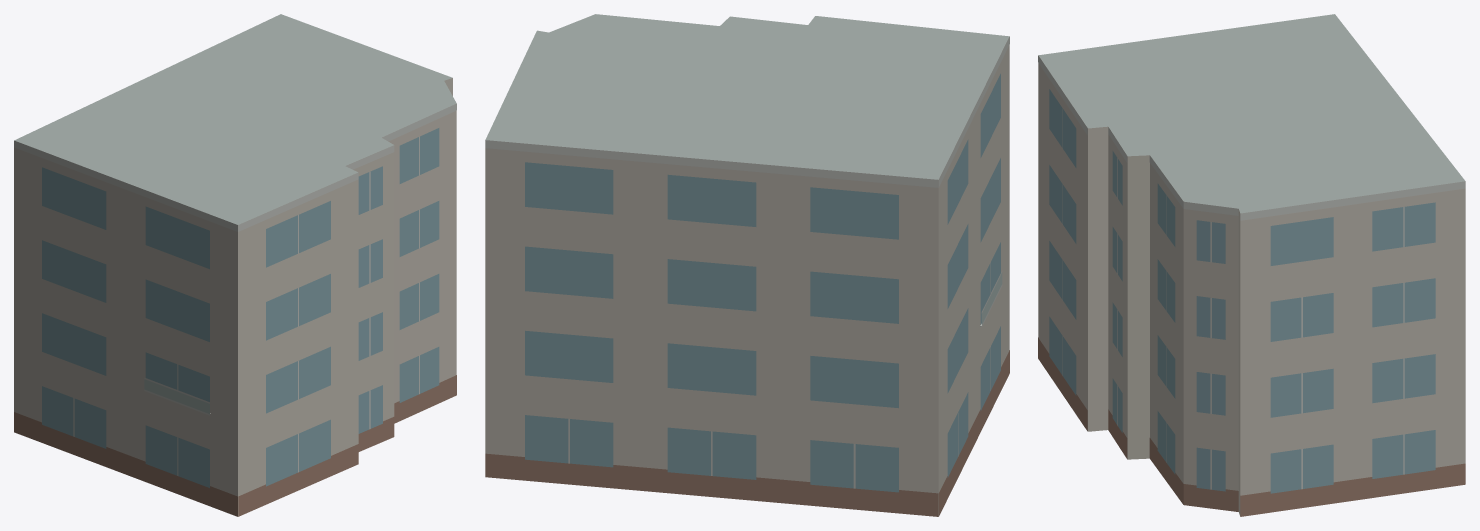
File: survey-upis-32723417.glb
The picture shows the model from 3 angles, left to right: view 1: azimuth 30°, elevation 25°; view 2: azimuth 150°, elevation 25°; view 3: azimuth 270°, elevation 25°; orthographic projection. The views are drawn at different scales.
Visible parts, largest first — view 1: survey-upis-32723417.tmp; view 2: survey-upis-32723417.tmp; view 3: survey-upis-32723417.tmp.
Boxes of the visible parts, x1=… form: survey-upis-32723417.tmp: x1=14, y1=14, x2=456, y2=516; survey-upis-32723417.tmp: x1=485, y1=14, x2=1009, y2=516; survey-upis-32723417.tmp: x1=1038, y1=14, x2=1465, y2=516.
Bounding box in the file's own units: 14.4 × 10.2 × 13.04.
